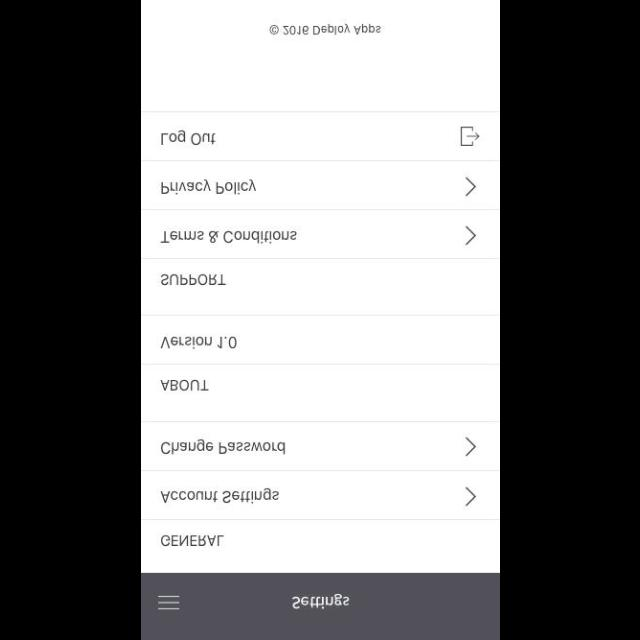icon: (460, 125, 480, 146), (157, 594, 180, 610), (464, 486, 476, 506), (465, 436, 477, 456), (465, 226, 477, 246), (465, 177, 477, 197)
text: (161, 486, 279, 504), (161, 438, 285, 454), (160, 230, 298, 244), (161, 179, 257, 195), (267, 23, 381, 35), (160, 335, 238, 349), (290, 592, 350, 610), (160, 272, 226, 286), (162, 130, 216, 146), (160, 534, 224, 546), (161, 379, 209, 391)
toolbar: (141, 572, 499, 638)
